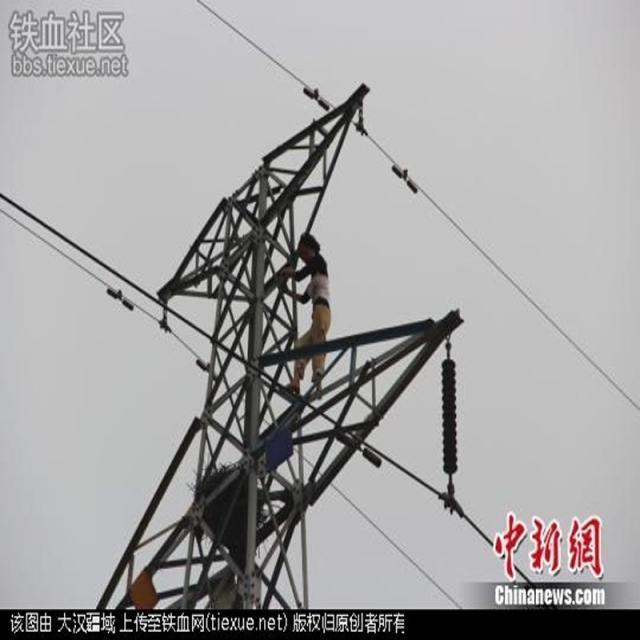non-critical vegetation: (92, 87, 478, 593)
